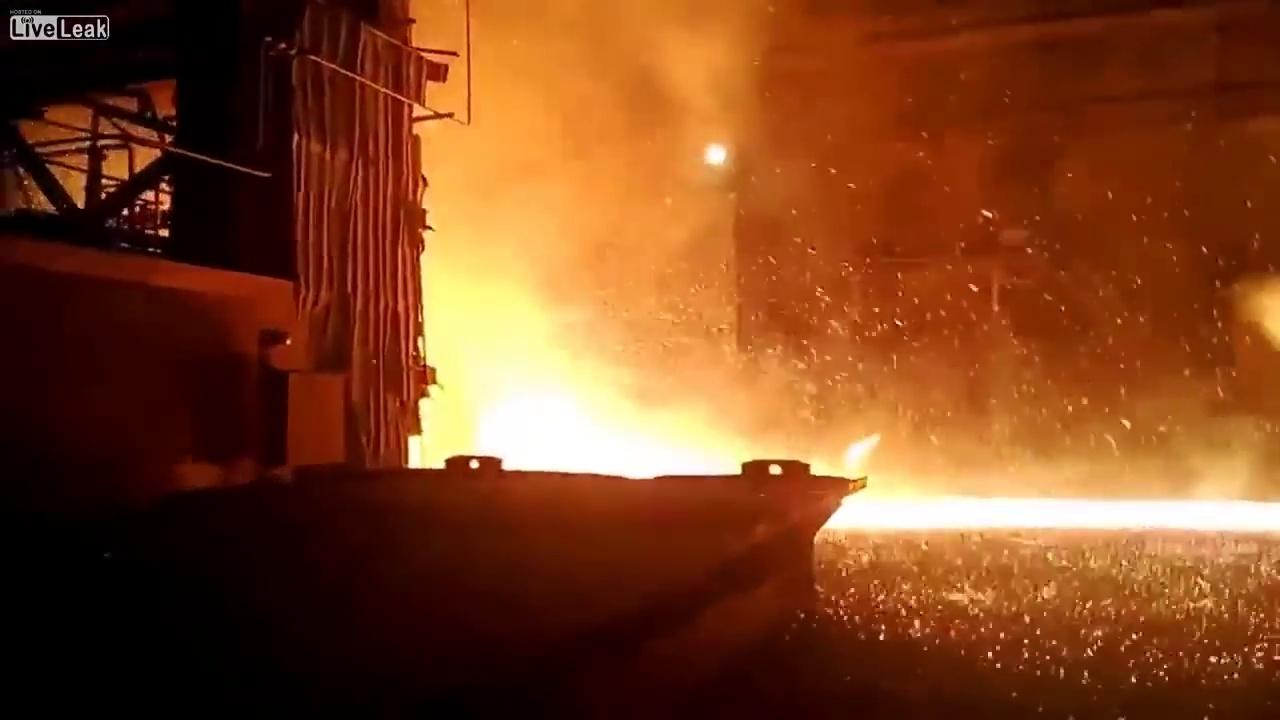fire: (323, 72, 1152, 542)
